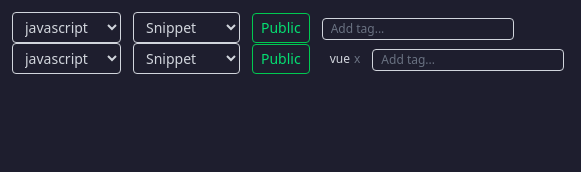
Test: EditorToolbar › tag autocomplete › should filter out already-selected tags from suggestions
The image size is (581, 172).
Type "vu" into the field with test id "tag-input" in the row of "vue" at point(468, 60), box left=372, top=49, right=564, bottom=71
Wait 200 ms
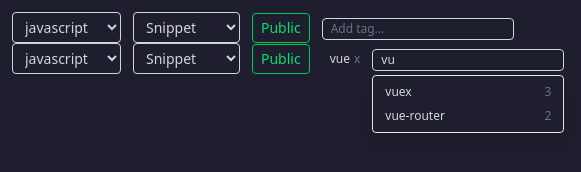
Now the number of buttons with test id "tag-suggestion-item" is 2, box left=373, top=80, right=563, bottom=104; left=373, top=104, right=563, bottom=128
Now the button with test id "tag-suggestion-item" shows "vuex", box left=373, top=80, right=563, bottom=104
Now the button with test id "tag-suggestion-item" shows "vue-router", box left=373, top=104, right=563, bottom=128
